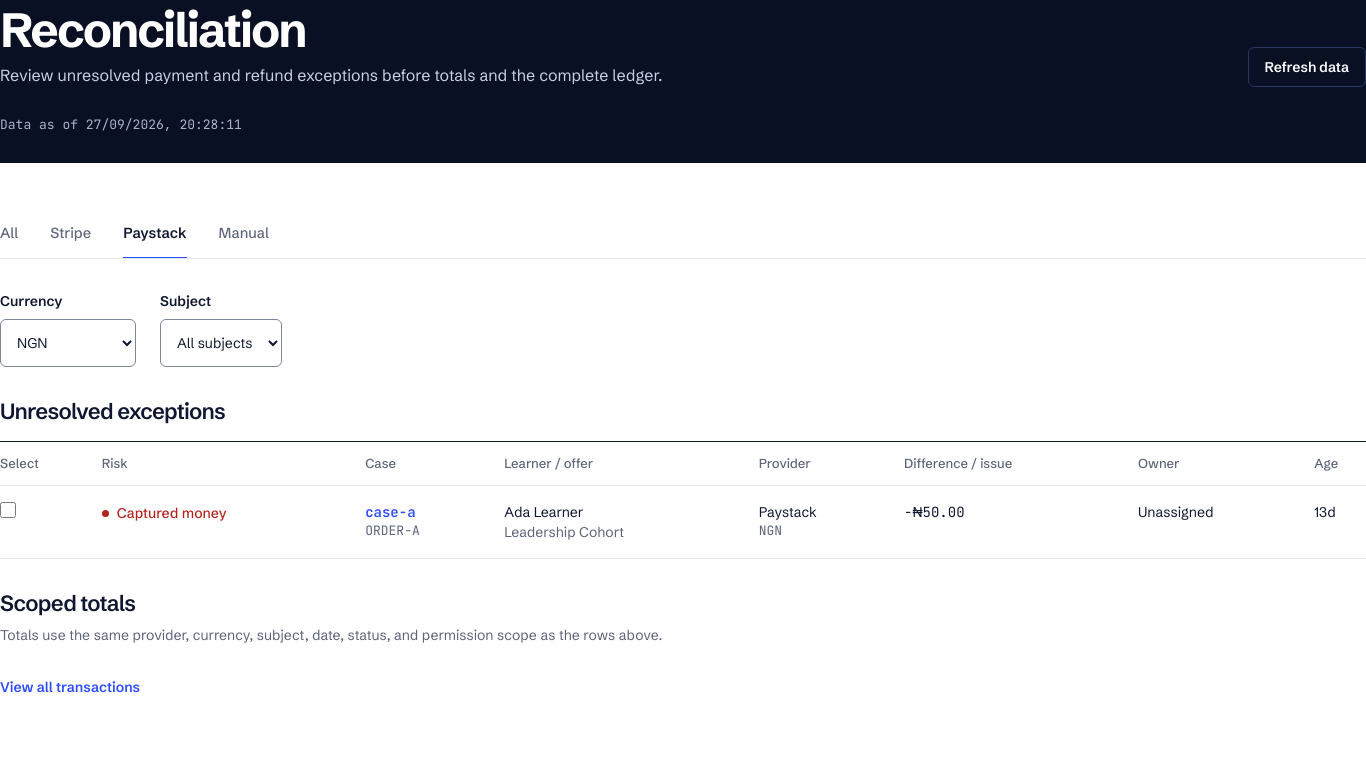
Scenario: ReconciliationWorkspace › offers assignment as the only bulk action and retains selection and assignee after failure
Click the checkbox named "Select case case-a" at (8, 510), box [0,502,16,518]
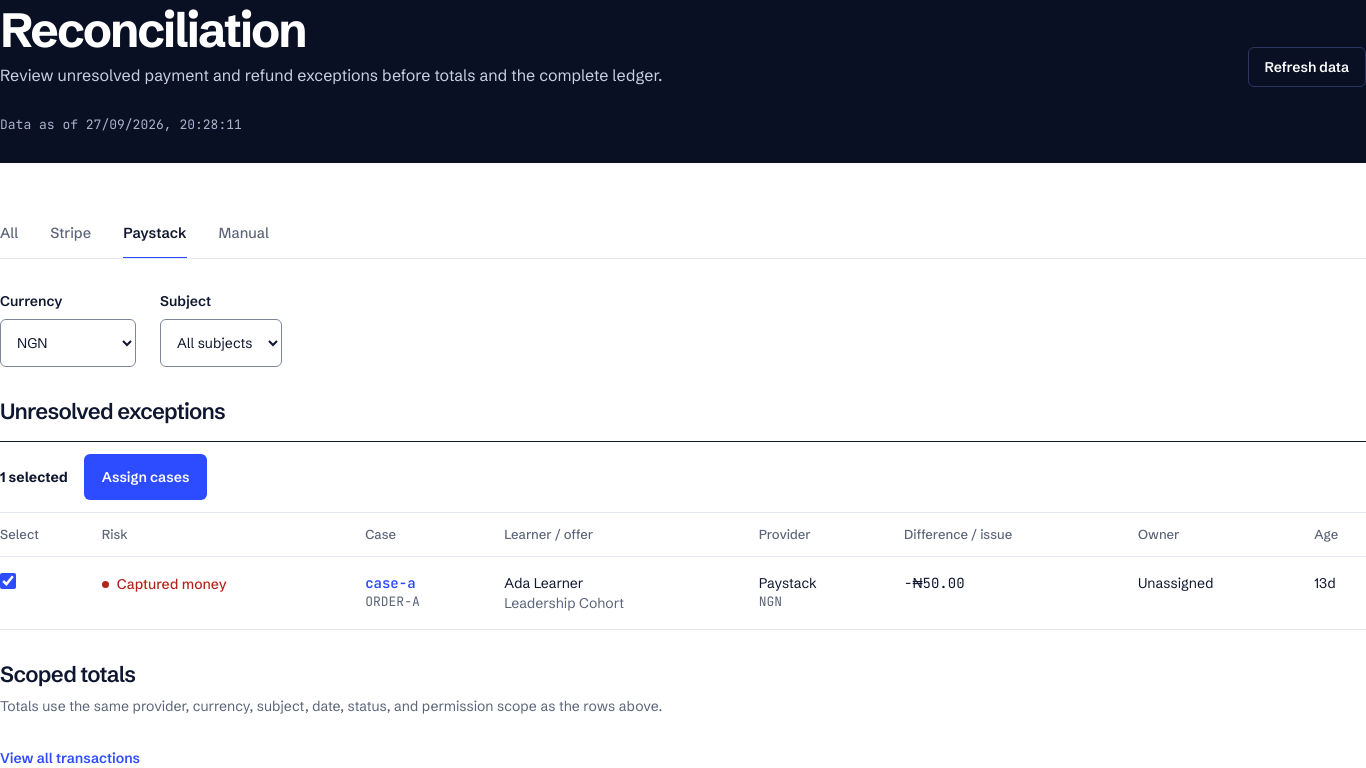
Click the button "Assign cases" at (146, 477), box [84,454,207,500]
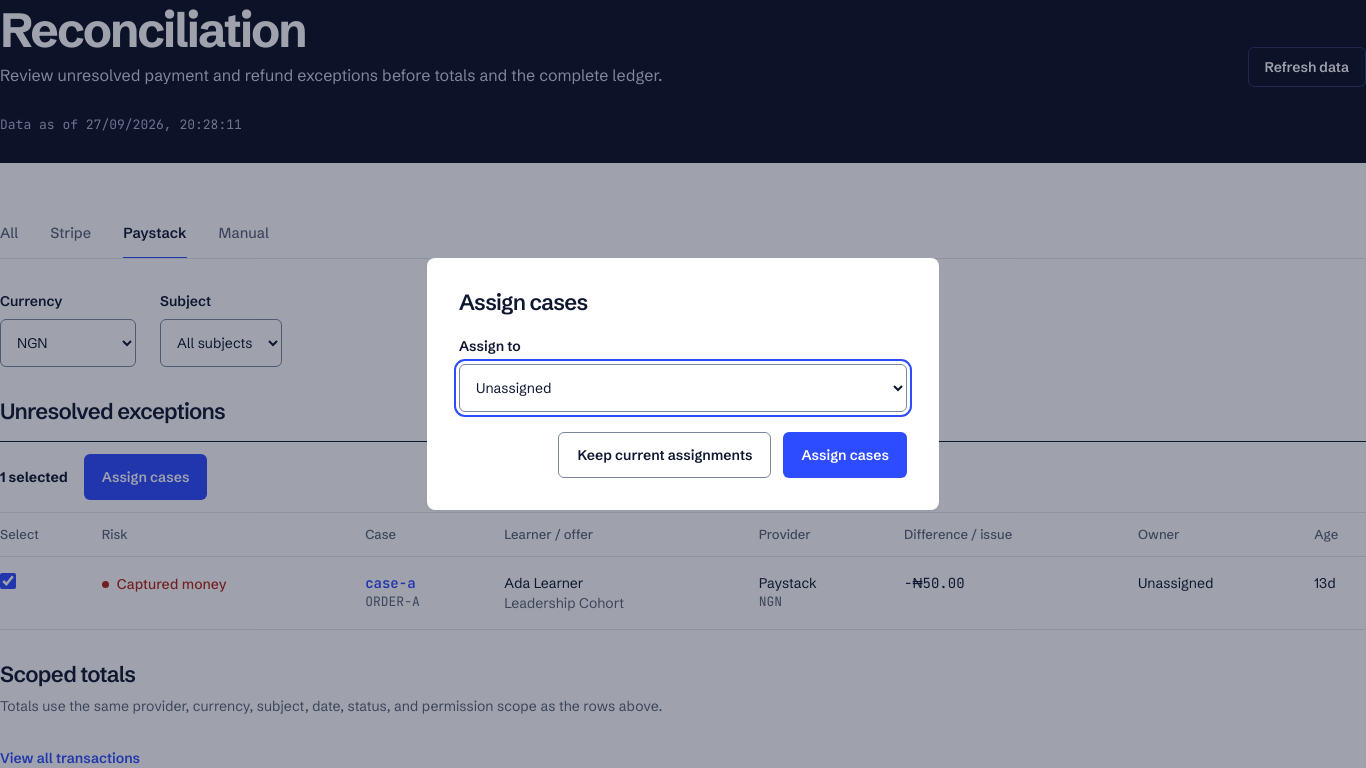
Select "Finance A" in the dropdown labelled "Assign to" at (683, 388), box [459,364,907,412]
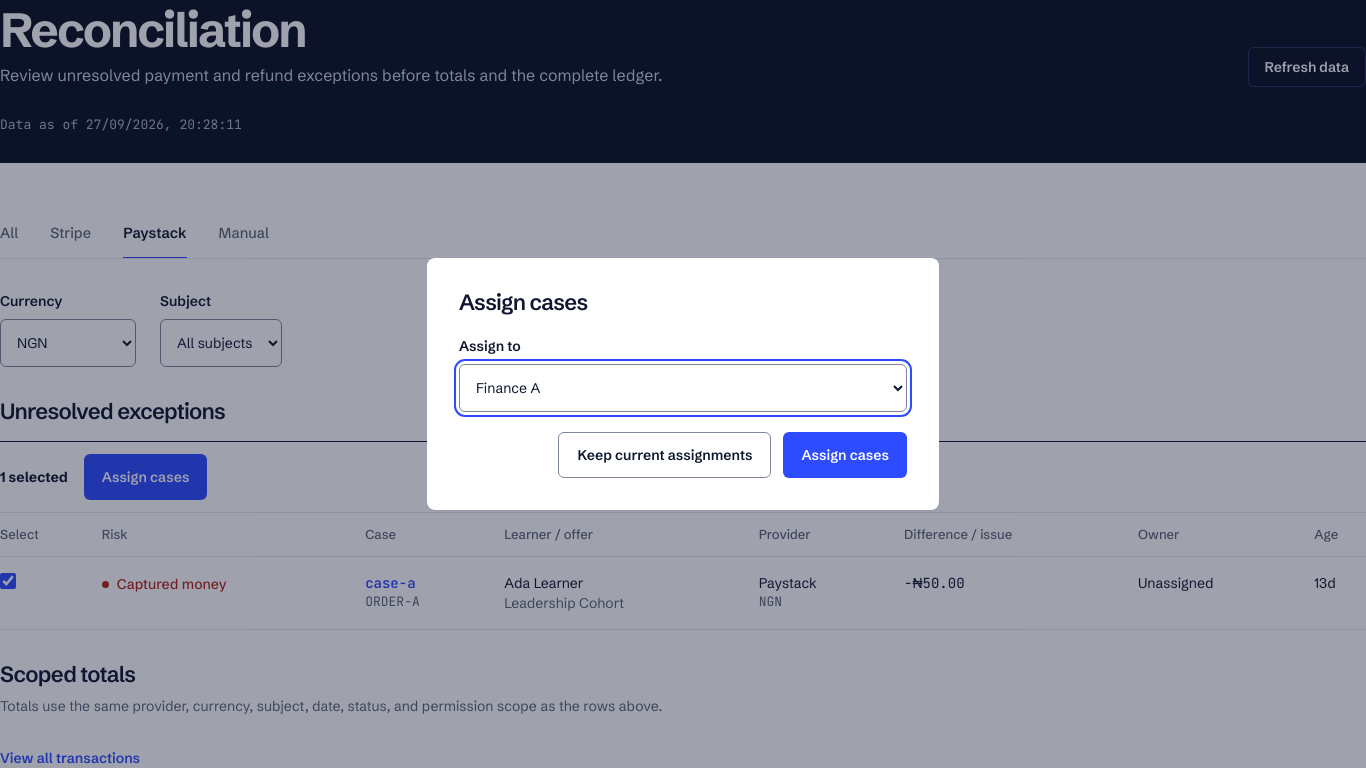
Click the button "Assign cases" at (845, 455), box [783,432,907,478]
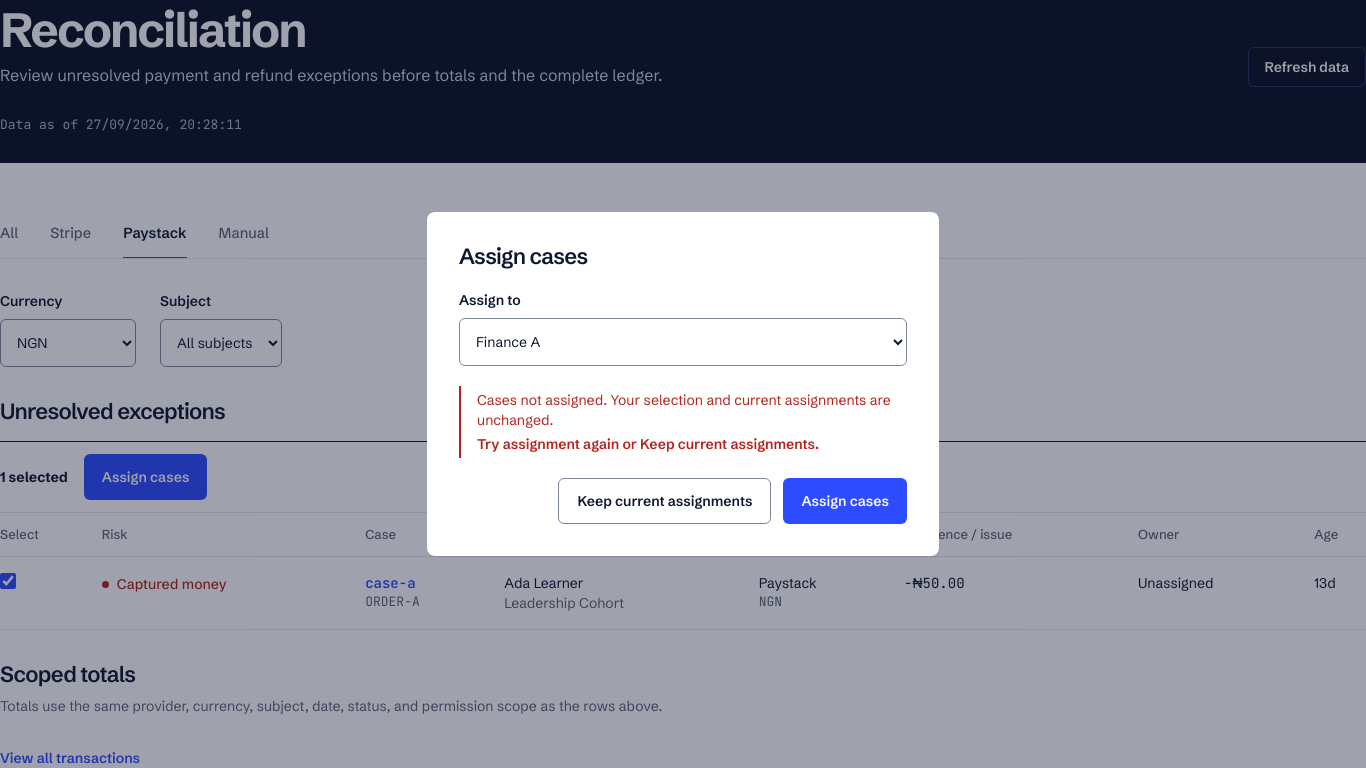
Expected: the checkbox named "Select case case-a" is checked, [0,573,16,589]
Expected: the message shows "Cases not assigned. Your selection and current assignments are unchanged.", [477,391,891,429]
